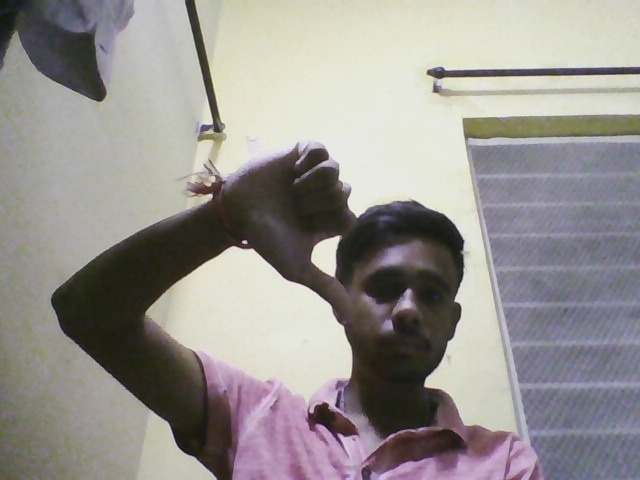no: (220, 132, 369, 329)
